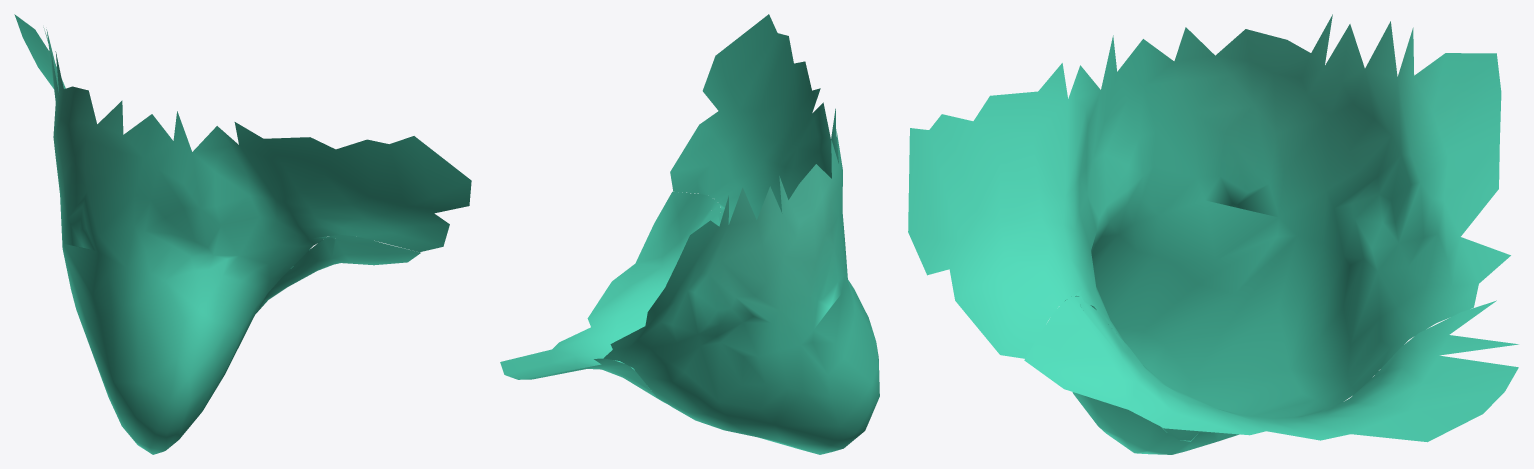
The model's file is Pata_TI.obj.
The picture shows the model from 3 angles, left to right: view 1: azimuth 30°, elevation 25°; view 2: azimuth 150°, elevation 25°; view 3: azimuth 270°, elevation 25°; orthographic projection. The views are drawn at different scales.
Visible parts, largest first — view 1: Pata_TI; view 2: Pata_TI; view 3: Pata_TI.
Part boxes in pixels (x1=…): Pata_TI: x1=14, y1=14, x2=471, y2=454; Pata_TI: x1=500, y1=14, x2=879, y2=454; Pata_TI: x1=908, y1=14, x2=1518, y2=454.
Bounding box in the file's own units: 20.37 × 25.2 × 32.57.
